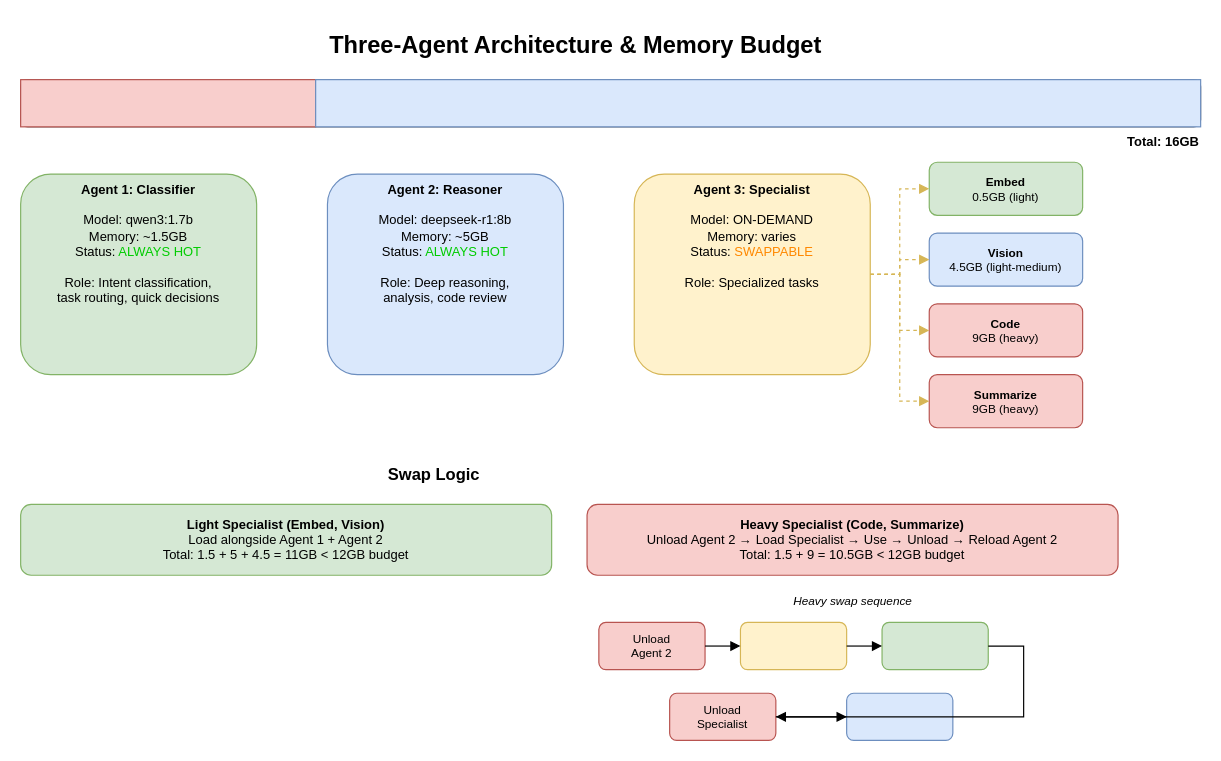
This 1221x761 diagram has some shape labels left out. Here are the shapes that lost their labels. From the top down, the box of each, then its label:
(19, 78, 316, 127): OS 4GB
(314, 78, 1201, 127): Models 12GB
(739, 621, 847, 670): Load Specialist
(881, 621, 988, 670): Execute Task
(845, 692, 953, 740): Reload Agent 2
